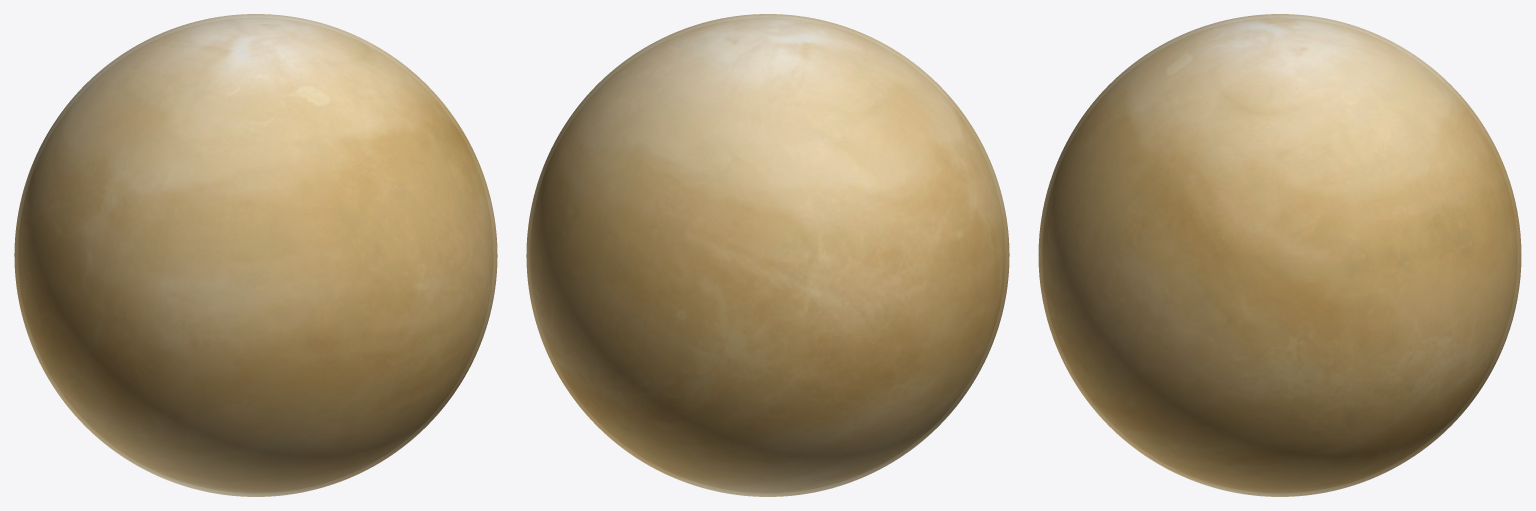
The model's file is venus.glb.
3 views of the same model, side by side, from view 1: azimuth 30°, elevation 25°; view 2: azimuth 150°, elevation 25°; view 3: azimuth 270°, elevation 25° (orthographic).
Visible parts, largest first — view 1: venus_cloud_deck; view 2: venus_cloud_deck; view 3: venus_cloud_deck.
Part boxes in pixels (box(x1,y1,x2,y2)): venus_cloud_deck: box(14, 14, 497, 496); venus_cloud_deck: box(526, 14, 1009, 496); venus_cloud_deck: box(1038, 14, 1521, 496).
Bounding box in the file's own units: 2 × 2 × 2.
Materials: 2 (2 with a texture image).
